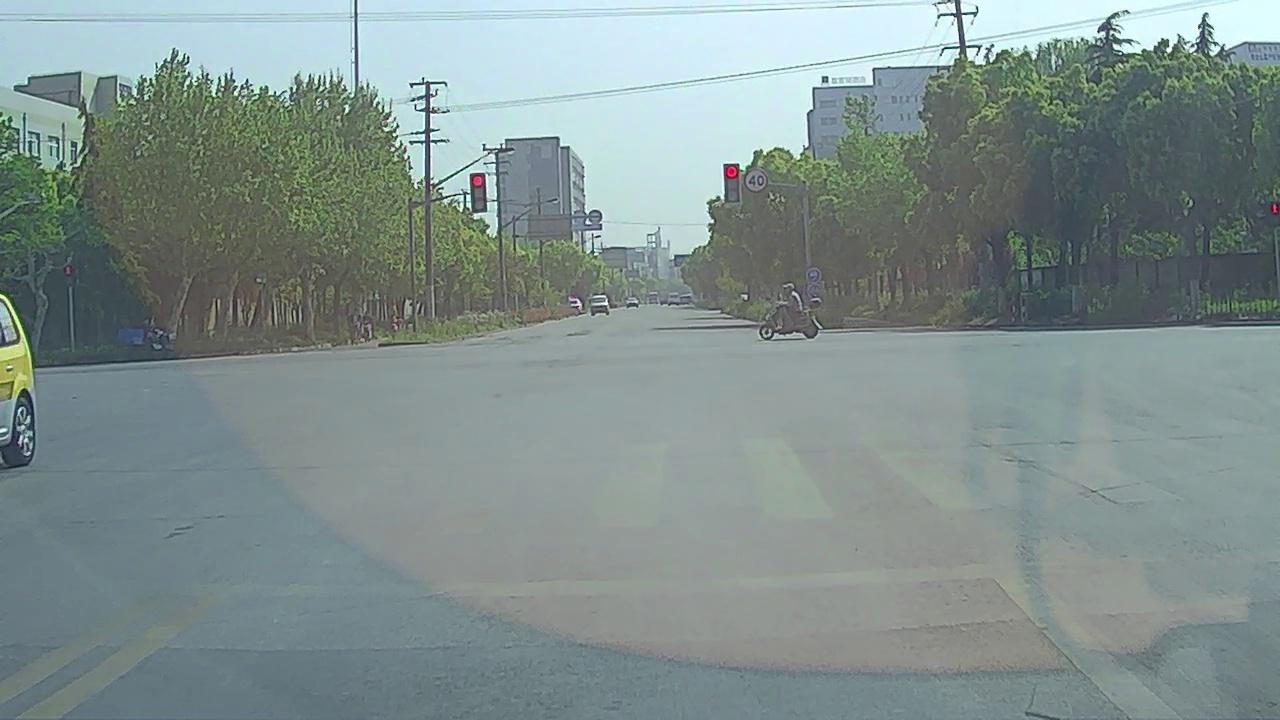traffic_light: (472, 173, 487, 212), (725, 163, 739, 202)
